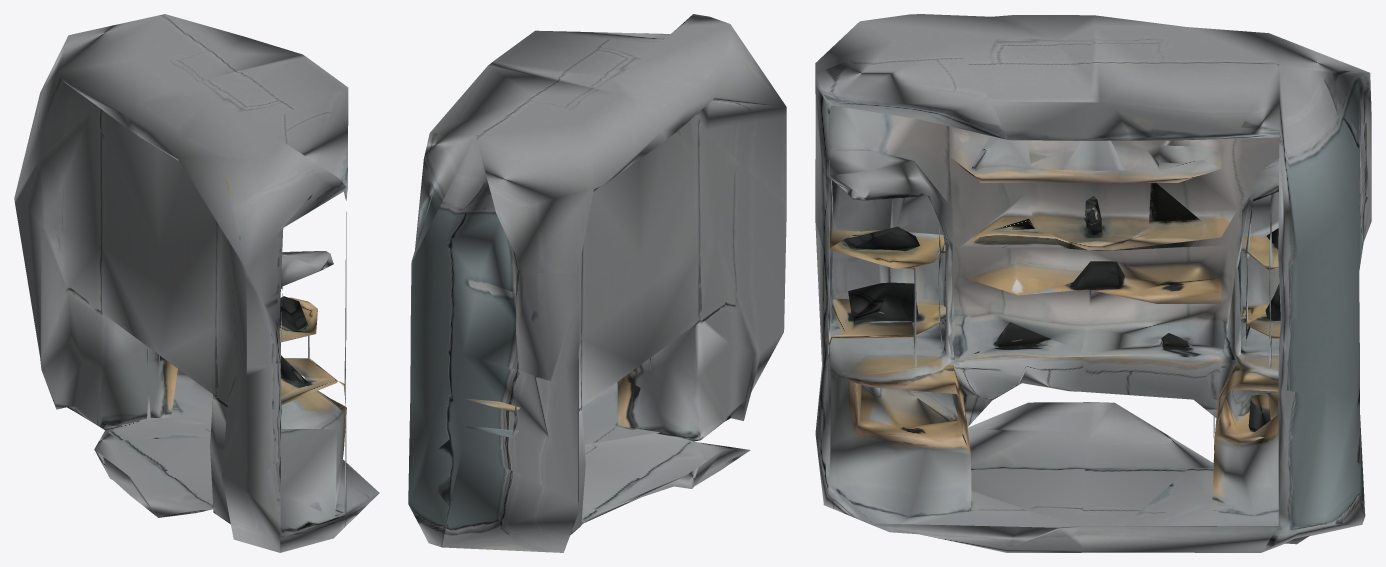
The model's file is frontclw_lod1.glb.
The picture shows the model from 3 angles, left to right: view 1: azimuth 30°, elevation 25°; view 2: azimuth 150°, elevation 25°; view 3: azimuth 270°, elevation 25°; orthographic projection. The views are drawn at different scales.
Parts seen in each view (by area): view 1: tripo_node_e9c7b41d-e00e-47ac-931f-928e804d7f1a; view 2: tripo_node_e9c7b41d-e00e-47ac-931f-928e804d7f1a; view 3: tripo_node_e9c7b41d-e00e-47ac-931f-928e804d7f1a.
Part boxes in pixels (x1,y1,x2,y2): tripo_node_e9c7b41d-e00e-47ac-931f-928e804d7f1a: [14, 14, 379, 552]; tripo_node_e9c7b41d-e00e-47ac-931f-928e804d7f1a: [408, 14, 786, 552]; tripo_node_e9c7b41d-e00e-47ac-931f-928e804d7f1a: [815, 14, 1371, 552].
Size of the model in its own units: 1.01 by 1.8 by 2.
1 material, 1 textured.
